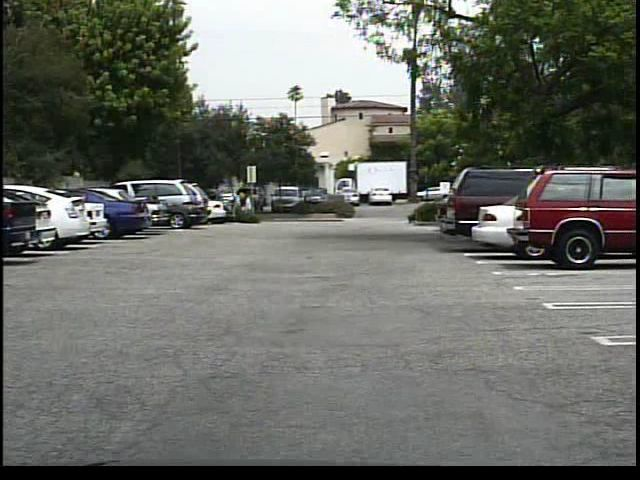person: (228, 188, 243, 220), (242, 191, 258, 219), (240, 188, 252, 218)
